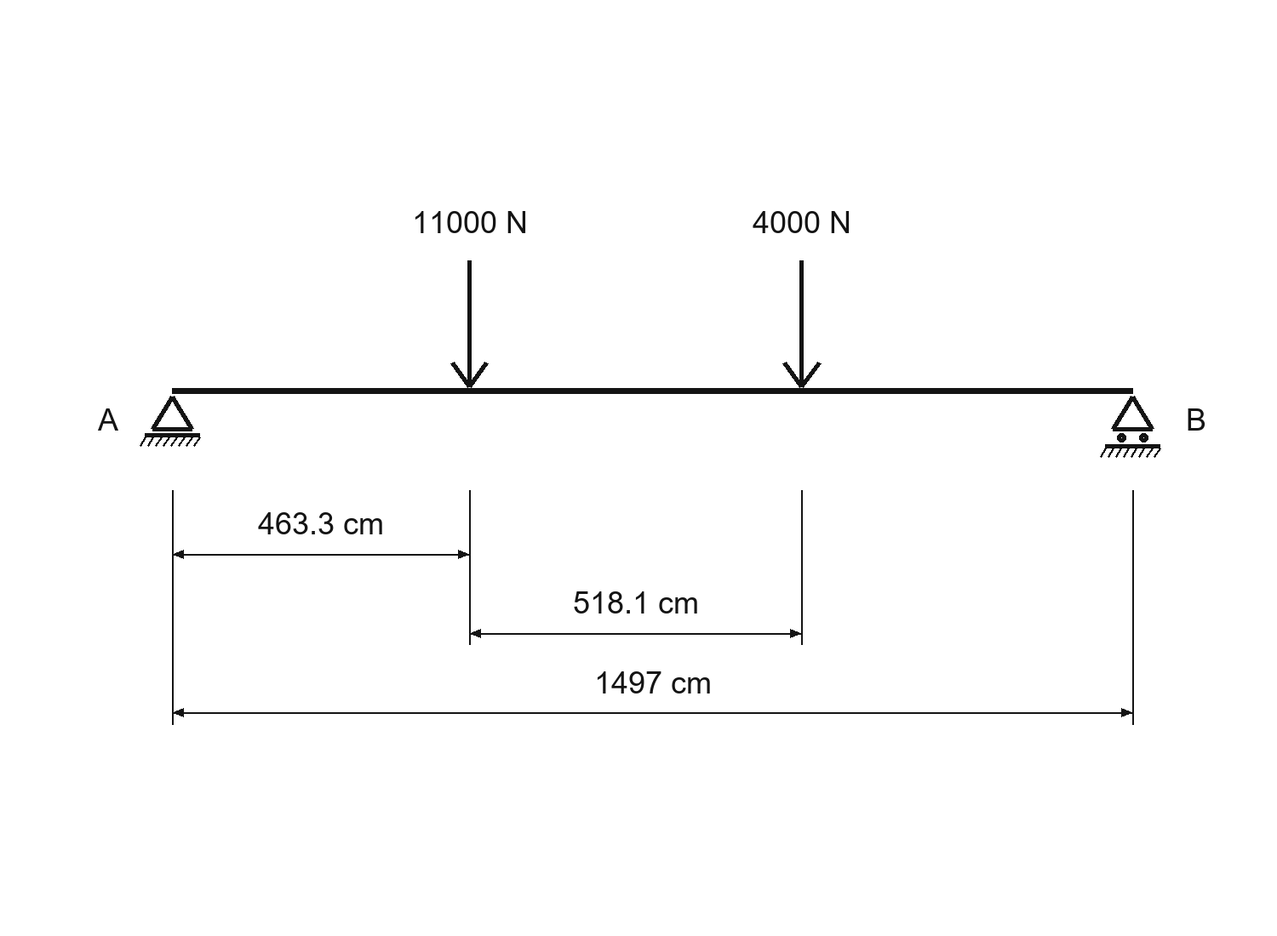pin_support: (140, 396, 201, 447)
point_load: (782, 260, 822, 388), (450, 260, 489, 388)
roller_support: (1100, 396, 1161, 458)
